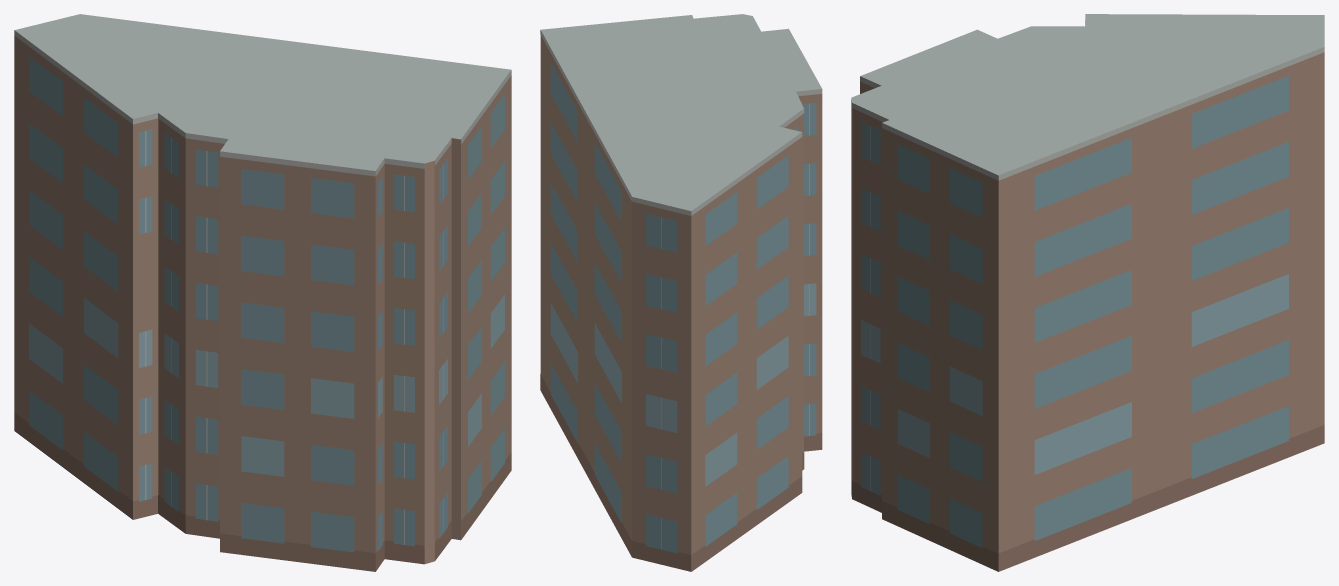
The model's file is survey-upis-32754273.glb.
The picture shows the model from 3 angles, left to right: view 1: azimuth 30°, elevation 25°; view 2: azimuth 150°, elevation 25°; view 3: azimuth 270°, elevation 25°; orthographic projection. The views are drawn at different scales.
Parts seen in each view (by area): view 1: survey-upis-32754273.tmp; view 2: survey-upis-32754273.tmp; view 3: survey-upis-32754273.tmp.
Part boxes in pixels (bbox=[...]): survey-upis-32754273.tmp: bbox=[14, 14, 511, 571]; survey-upis-32754273.tmp: bbox=[540, 14, 822, 571]; survey-upis-32754273.tmp: bbox=[851, 14, 1324, 571].
Size of the model in its own units: 16 by 18.3 by 19.82.
